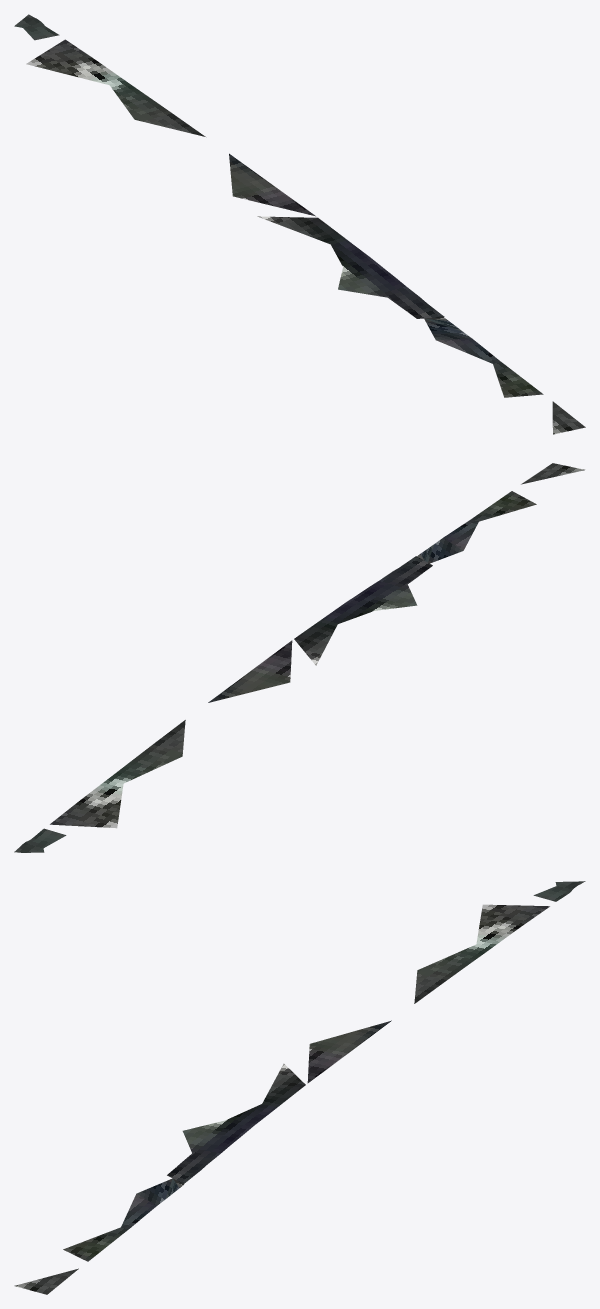
Rendered from Tile_000_003_L14_4331.glb.
The picture shows the model from 3 angles, top to bottom: view 1: azimuth 30°, elevation 25°; view 2: azimuth 150°, elevation 25°; view 3: azimuth 330°, elevation 25°; orthographic projection.
Parts seen in each view (by area): view 1: rtc; view 2: rtc; view 3: rtc.
Boxes of the visible parts, x1,y1,x2,y2 form: rtc: (14,14,585,434); rtc: (14,463,584,852); rtc: (14,881,585,1294).
Size of the model in its own units: 2.91 by 0.7928 by 45.69.
Materials: 1 (1 with a texture image).
